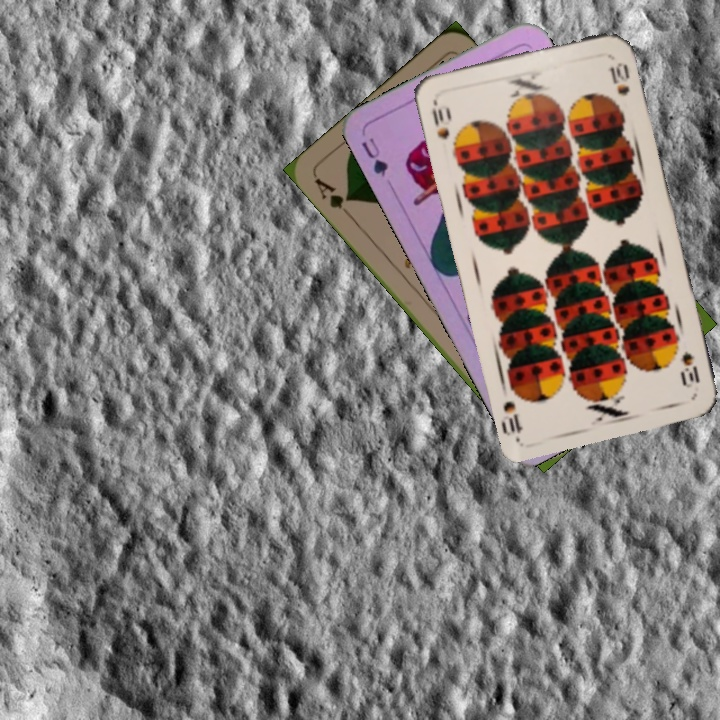GA: (310, 174, 355, 221)
GU: (357, 133, 391, 180)
S10: (676, 346, 702, 391), (428, 104, 452, 142)
